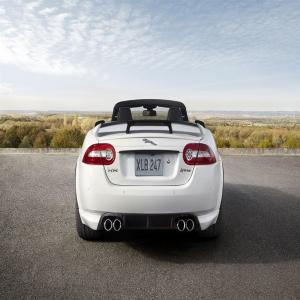Vehicle-registration-plate: (136, 153, 165, 177)
